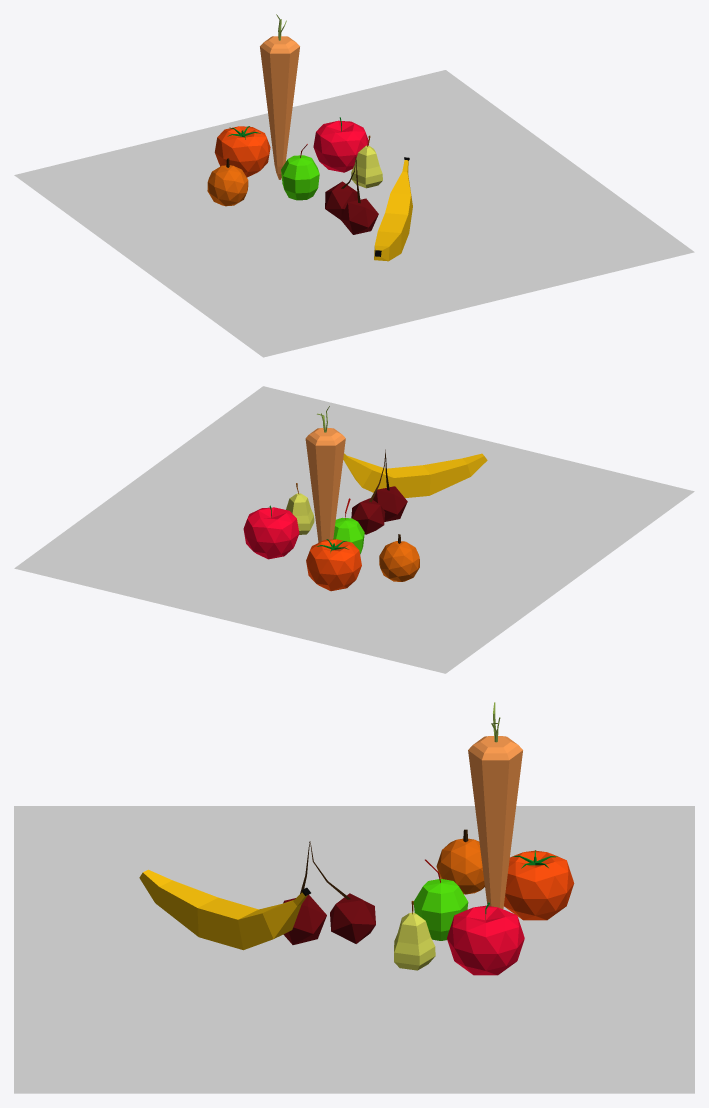
Rendered from frutas.fbx.
3 renders of one model, top to bottom at view 1: azimuth 30°, elevation 25°; view 2: azimuth 150°, elevation 25°; view 3: azimuth 270°, elevation 25°, orthographic. The views are drawn at different scales.
Visible parts, largest first — view 1: Plane, Circle.016, Plane.001, Icosphere, Icosphere.005, Icosphere.001, Sphere.004, Icosphere.002, Sphere.005; view 2: Plane, Plane.001, Circle.016, Icosphere, Icosphere.005, Icosphere.001, Icosphere.002, Sphere.004, Sphere.005; view 3: Plane, Circle.016, Plane.001, Icosphere, Icosphere.005, Icosphere.001, Sphere.004, Icosphere.002, Sphere.005.
Part boxes in pixels (box(x1,y1,x2,y2)): Plane: box(14, 70, 694, 357); Circle.016: box(260, 14, 299, 179); Plane.001: box(374, 157, 412, 261); Icosphere: box(313, 117, 369, 172); Icosphere.005: box(214, 126, 270, 177); Icosphere.001: box(325, 157, 378, 234); Sphere.004: box(281, 144, 319, 200); Icosphere.002: box(207, 158, 248, 206); Sphere.005: box(351, 135, 382, 188); Plane: box(14, 386, 694, 673); Plane.001: box(343, 453, 487, 497); Circle.016: box(305, 406, 345, 542); Icosphere: box(243, 505, 299, 559); Icosphere.005: box(306, 539, 361, 591); Icosphere.001: box(351, 449, 407, 534); Icosphere.002: box(379, 534, 419, 581); Sphere.004: box(333, 498, 364, 554); Sphere.005: box(286, 483, 314, 534); Plane: box(14, 806, 694, 1093); Circle.016: box(468, 702, 522, 908); Plane.001: box(139, 869, 310, 950); Icosphere: box(447, 902, 524, 975); Icosphere.005: box(504, 850, 574, 920); Icosphere.001: box(283, 841, 375, 944); Sphere.004: box(413, 859, 468, 940); Icosphere.002: box(436, 829, 484, 894); Sphere.005: box(394, 901, 435, 970).
Size of the model in its own units: 1745 by 652 by 1745.
